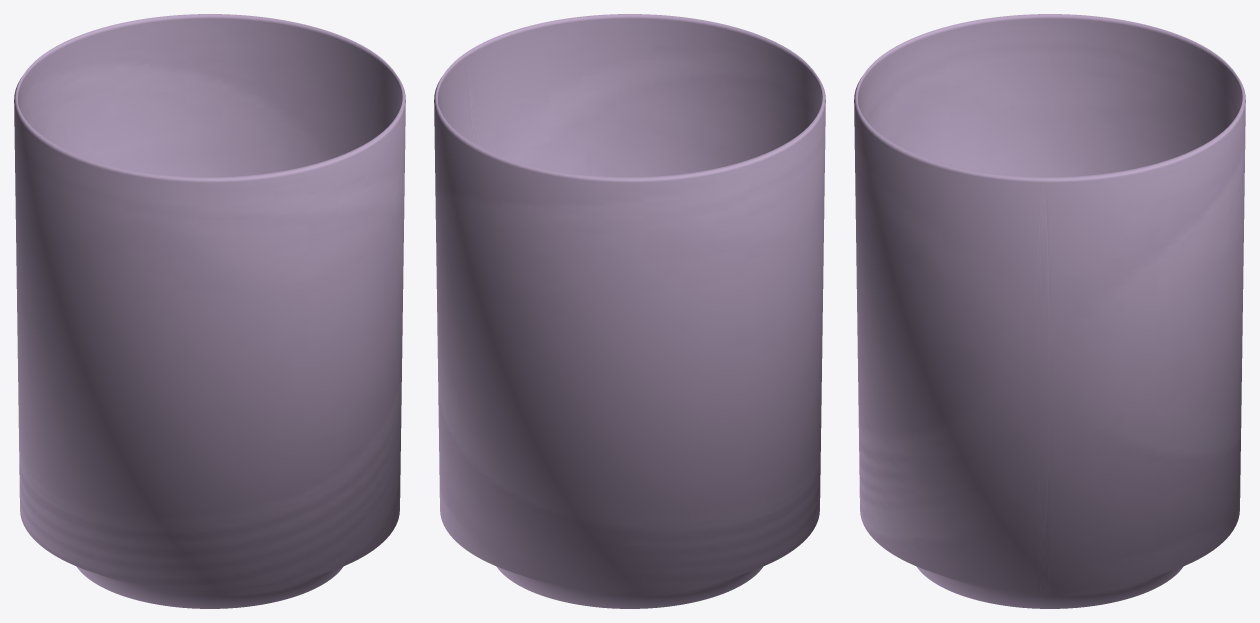
File: dishware__paper_cup.glb
3 views of the same model, side by side, from view 1: azimuth 30°, elevation 25°; view 2: azimuth 150°, elevation 25°; view 3: azimuth 270°, elevation 25° (orthographic).
Visible parts, largest first — view 1: body; view 2: body; view 3: body.
Boxes of the visible parts, box(x1,y1,x2,y2) form: body: box(14, 14, 405, 608); body: box(434, 14, 825, 608); body: box(854, 14, 1245, 608).
Size of the model in its own units: 0.082 by 0.105 by 0.082.
1 material, 1 textured.
